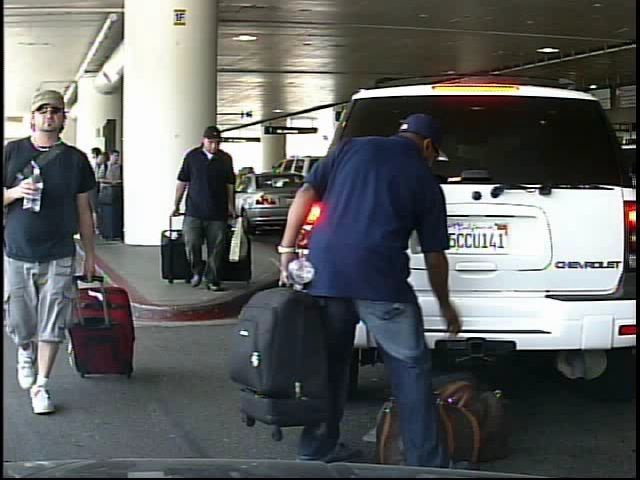person: (273, 75, 453, 471), (2, 94, 108, 420), (168, 129, 247, 298)
